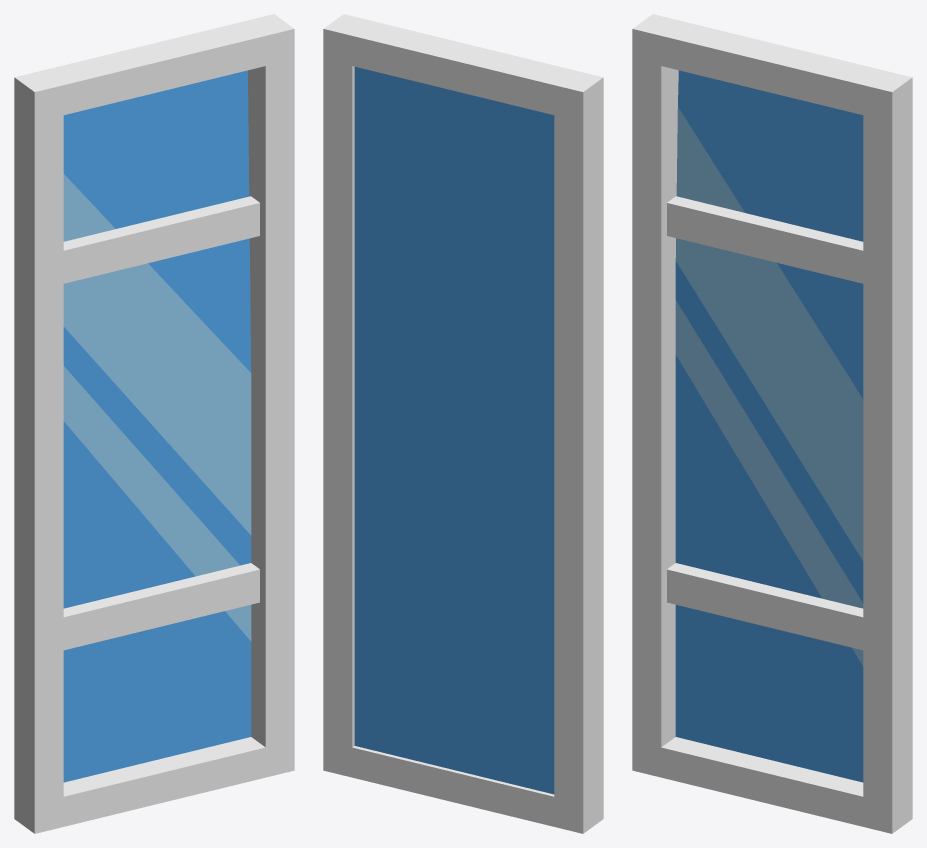
The model's file is Window.fbx.
3 views of the same model, side by side, from view 1: azimuth 30°, elevation 25°; view 2: azimuth 150°, elevation 25°; view 3: azimuth 330°, elevation 25° (orthographic).
Visible parts, largest first — view 1: Window.001, Window; view 2: Window.001, Window; view 3: Window.001, Window.
Part boxes in pixels (x1=…): Window.001: x1=63, y1=70, x2=251, y2=782; Window: x1=14, y1=14, x2=294, y2=833; Window.001: x1=354, y1=66, x2=554, y2=794; Window: x1=323, y1=14, x2=603, y2=833; Window.001: x1=675, y1=70, x2=863, y2=782; Window: x1=632, y1=14, x2=912, y2=833.
Size of the model in its own units: 137 by 373 by 18.49.
